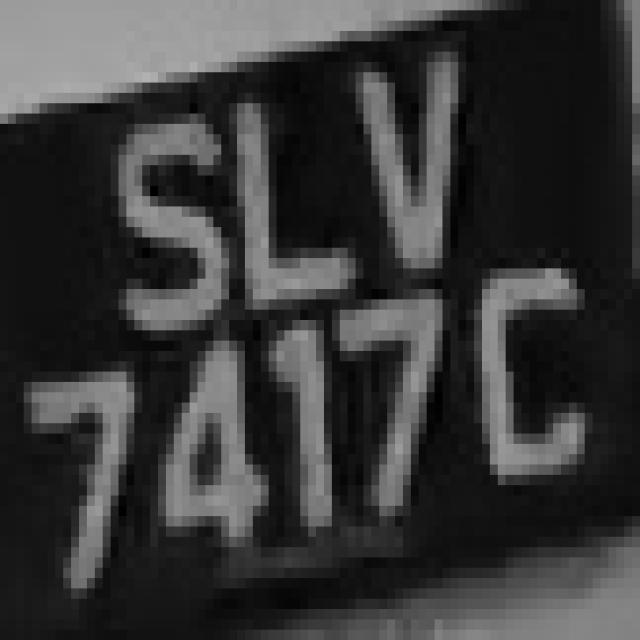1: (276, 289, 348, 588)
4: (134, 300, 261, 588)
7: (8, 320, 142, 599), (324, 299, 450, 537)
C: (474, 248, 601, 537)
L: (198, 72, 356, 341)
S: (87, 103, 221, 351)
V: (316, 31, 482, 279)
